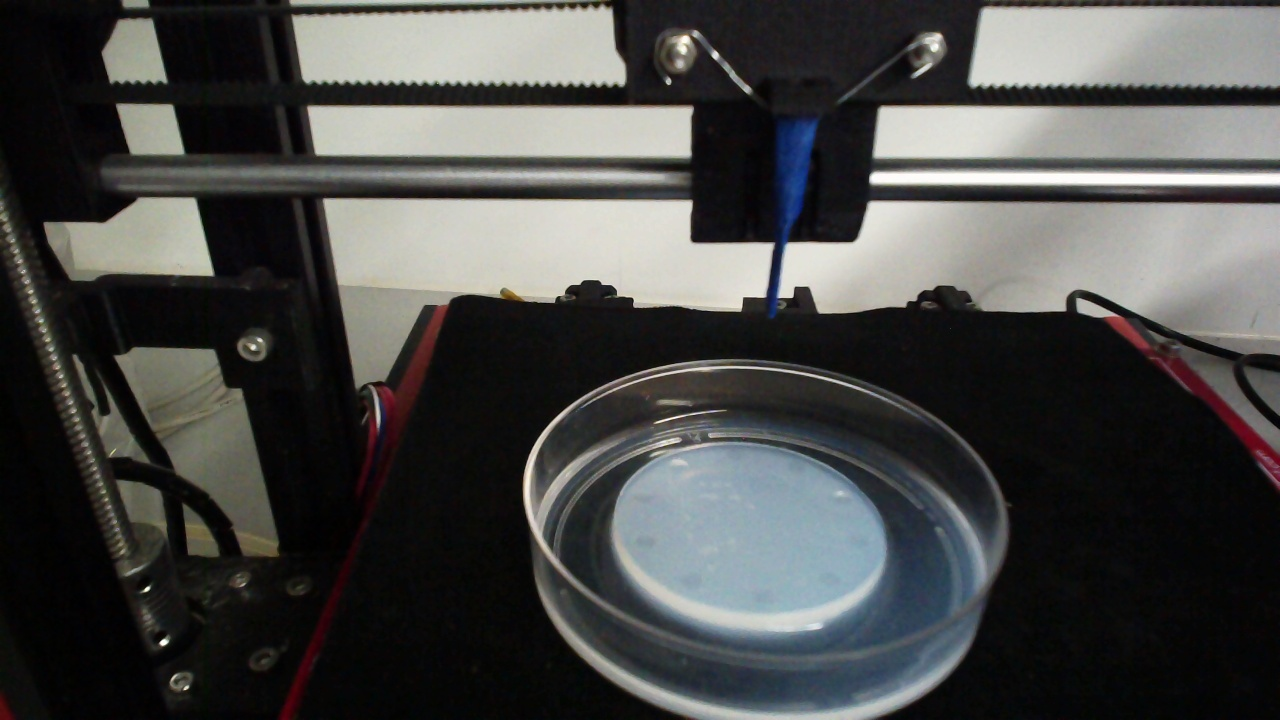groove: (679, 571, 706, 592), (815, 569, 844, 588), (828, 488, 855, 507), (632, 487, 657, 506), (785, 458, 810, 477), (749, 587, 776, 604), (666, 457, 691, 474), (634, 533, 658, 550), (848, 533, 872, 550), (723, 447, 746, 463)
needle: (765, 116, 820, 322)
